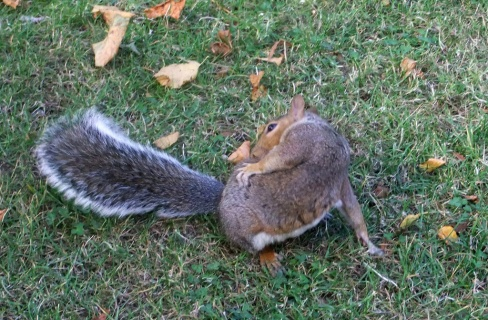Squirrel: (37, 93, 383, 277)
